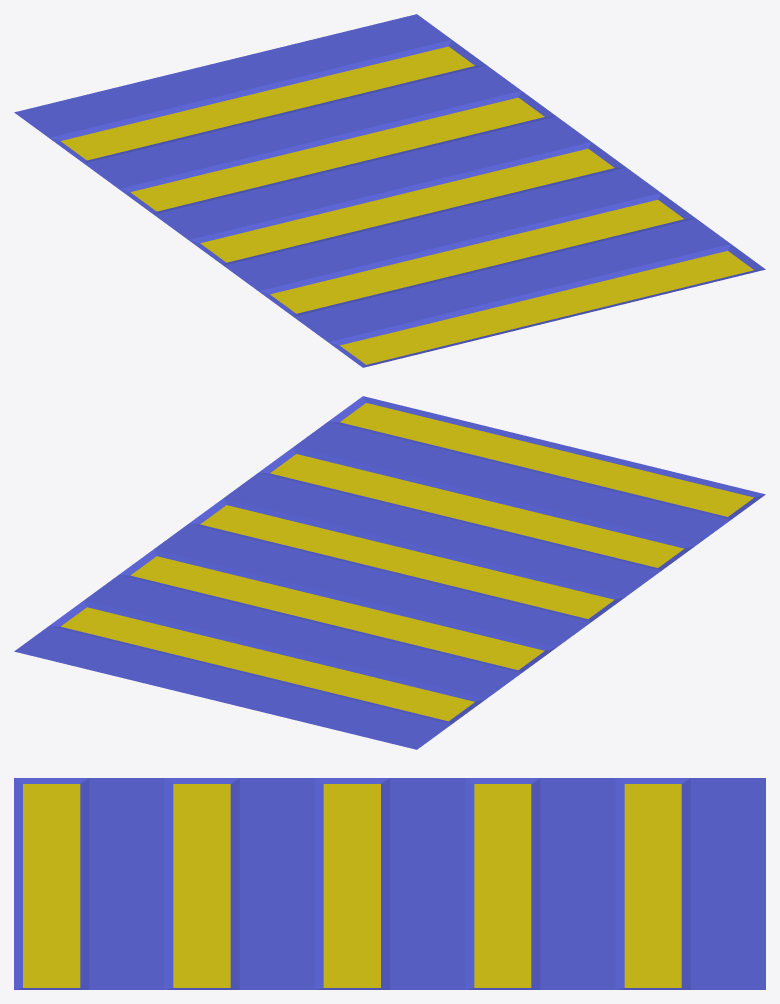
Rendered from Ceiling.fbx.
3 renders of one model, top to bottom at view 1: azimuth 30°, elevation 25°; view 2: azimuth 150°, elevation 25°; view 3: azimuth 270°, elevation 25°, orthographic. The views are drawn at different scales.
Parts seen in each view (by area): view 1: Cube; view 2: Cube; view 3: Cube.
Boxes of the visible parts, box(x1,y1,x2,y2) form: Cube: box(14, 14, 765, 367); Cube: box(14, 396, 765, 749); Cube: box(14, 778, 765, 989).
Size of the model in its own units: 4 by 0.0181 by 6.
